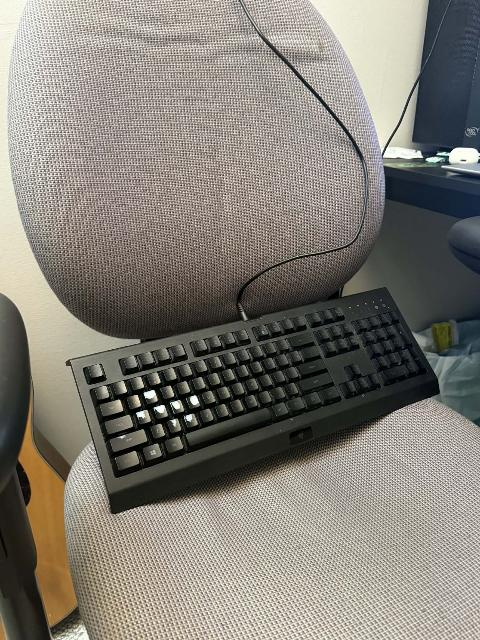ahkeyboard: (64, 278, 445, 517)
